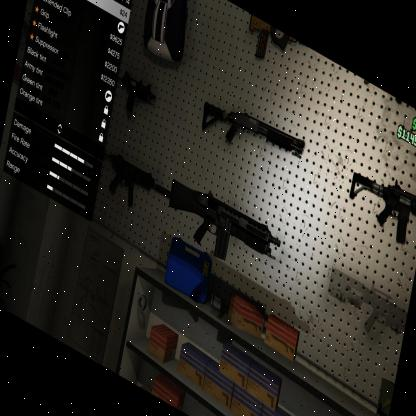rifle: (160, 168, 286, 290), (191, 76, 311, 191)
